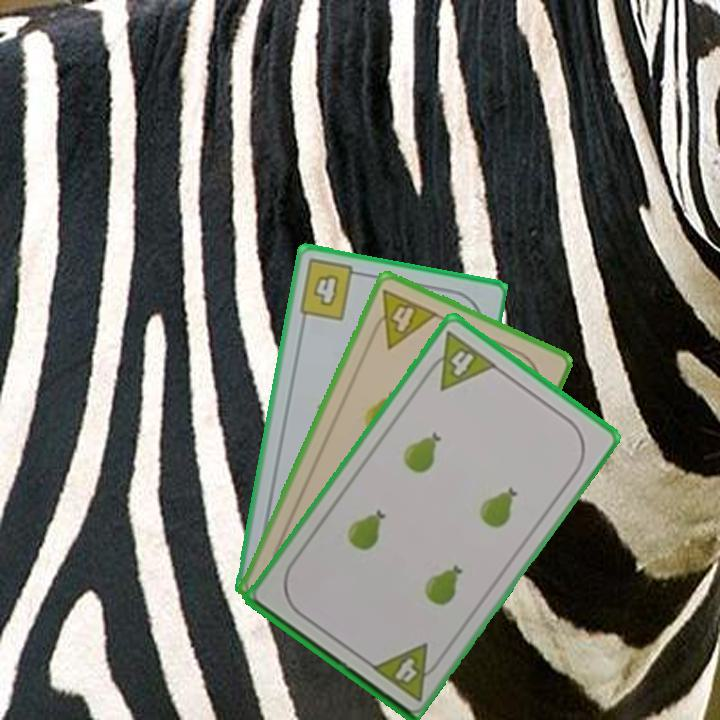4b: (295, 255, 367, 323)
4p: (419, 327, 500, 393), (366, 639, 446, 704), (365, 285, 441, 352)
